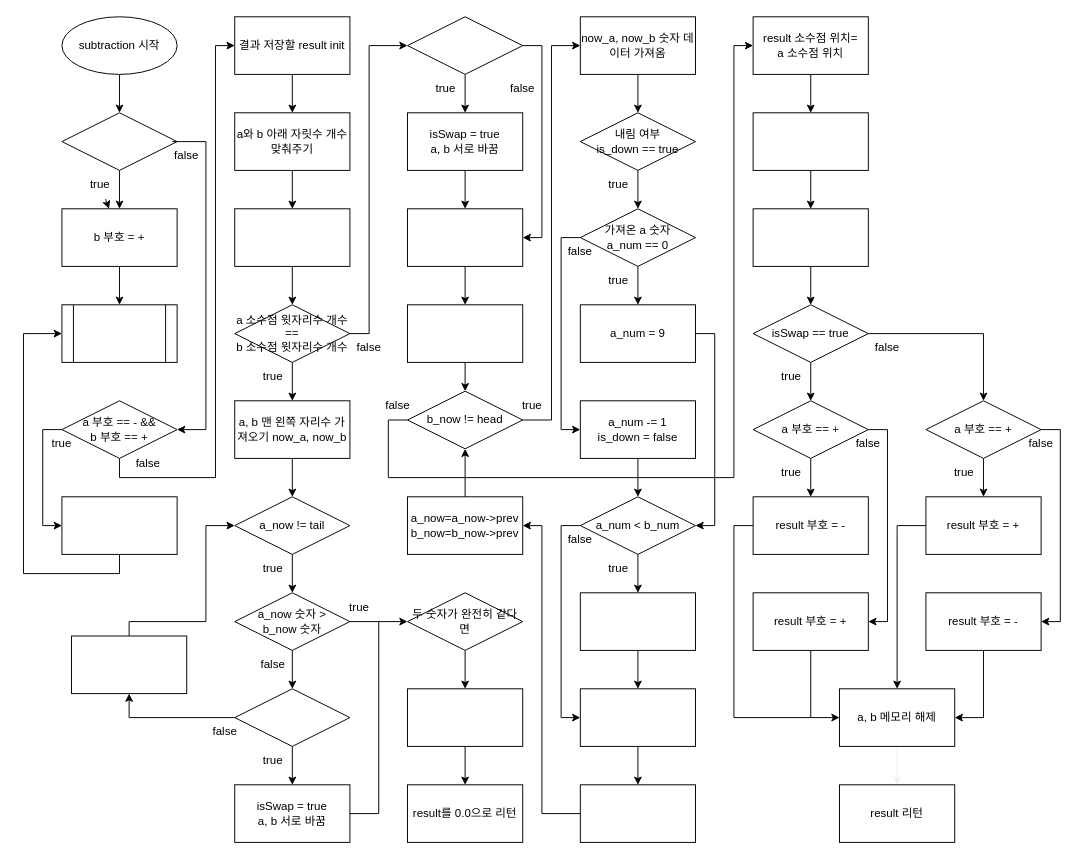
The diagram is 1087 pixels wide and 859 high, and some of its shapes have lost their labels. The shapes that lost their labels are listed below. From the top down, each one's centre as x and y in pixels, then its label:
At (465,45): "a 소수점 윗자리수 개수 < b 소수점 윗자리수 개수".
At (119,141): "a 부호 == + && b 부호 == -".
At (810,141): "소수점 아랫 자리수에서 0 삭제 3.900 -> 3.9".
At (292,237): "a,b 바꿨는지 여부 isSwap = false".
At (465,237): "소수점 윗 자리수 개수 맞추기".
At (810,237): "소수점 윗 자리수에서 0 삭제 003.9 -> 3.9".
At (119,333): "addition(a, b)".
At (465,333): "a, b 맨 오른쪽 자리수 가져오기 now_a, now_b".
At (119,525): "b 부호 = -".
At (637,621): "is_down = true a_num += 10".
At (129,664): "a_now=a_now->next b_now=b_now->next".
At (292,717): "a_now 숫자 < b_now 숫자".
At (465,717): "a, b 메모리 헤재".
At (637,717): "연산결과= a_num - b_num".
At (637,813): "연산결과 result->head 바로 다음 노드에 추가".
